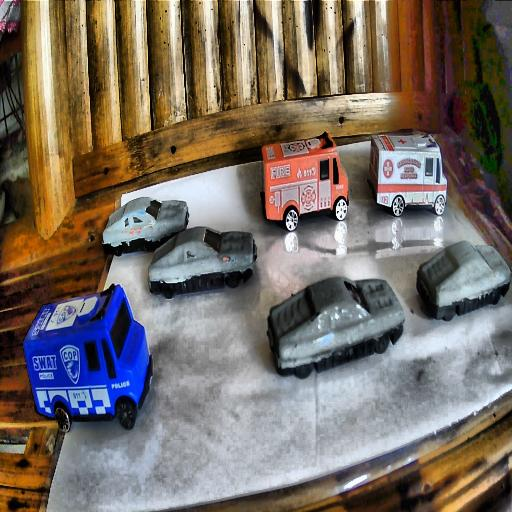ambulance: (368, 130, 446, 218)
fire_truck: (260, 132, 346, 232)
normal_car: (267, 276, 403, 378), (147, 224, 256, 298), (416, 240, 509, 321), (102, 195, 190, 258)
police car: (24, 283, 152, 434)
